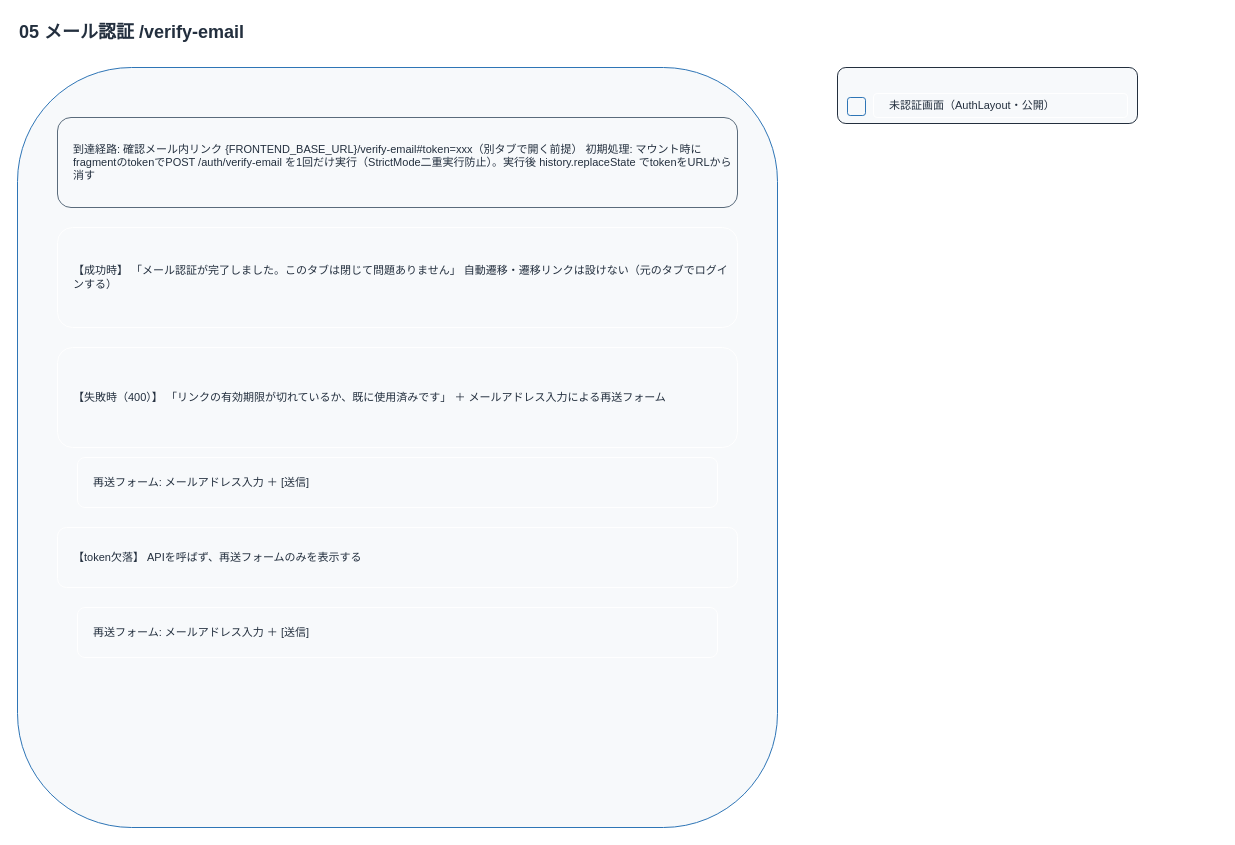
Some shapes in this 1235 by 845 pixel diagram are drawn without their labels. Here are the shapes that lost their labels. From the top down, the box of each, then its label:
(836, 66, 1138, 124): 凡例
(16, 66, 778, 828): ブラウザウィンドウ（AuthLayout）／ メール認証 /verify-email#token=
